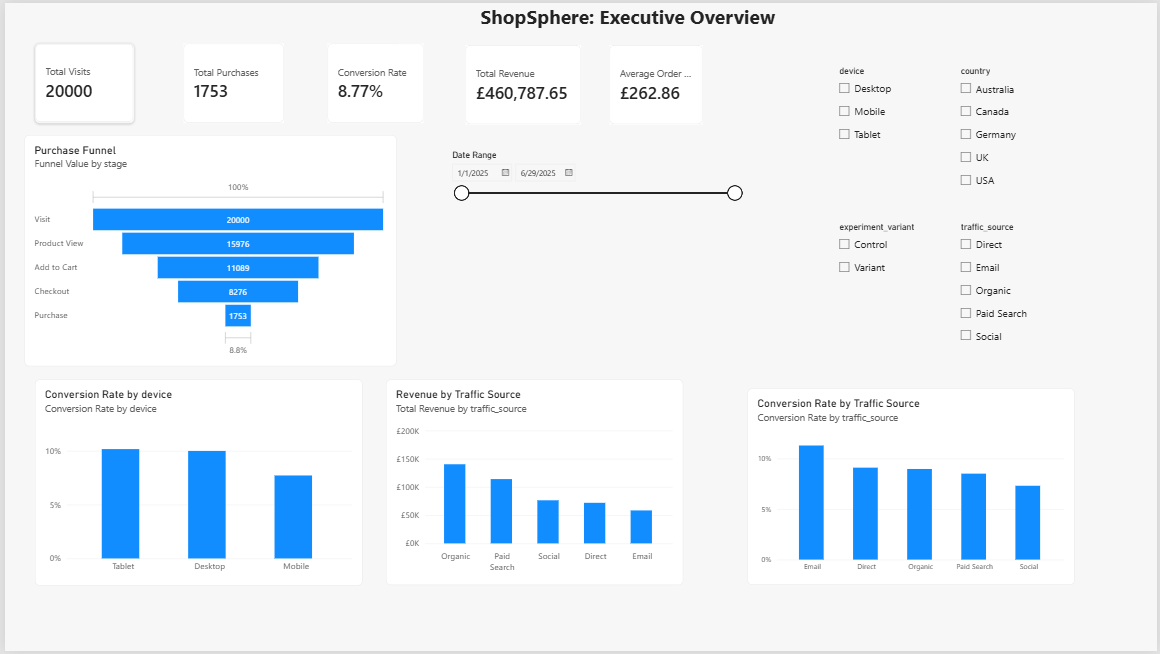

The dashboard page shown, as its layout file describes it:
{"tool":"powerbi","page":{"name":"Page 1","canvas":[1920,1080],"ordinal":0},"visuals":[{"type":"cardVisual","fields":{"Data":["public session_funnel.Total Visits"]},"box":[50,67.5,165,132.5],"z":0},{"type":"cardVisual","fields":{"Data":["public session_funnel.Total Purchases","public session_funnel.Total Purchases"]},"box":[297.5,67.5,167.5,132.5],"z":1},{"type":"cardVisual","fields":{"Data":["public session_funnel.Conversion Rate"]},"box":[537.5,67.5,160,132.5],"z":2},{"type":"cardVisual","fields":{"Data":["public session_funnel.Total Revenue"]},"box":[767.5,70,192.5,132.5],"z":3},{"type":"cardVisual","fields":{"Data":["public session_funnel.Average Order Value"]},"box":[1007.5,70,155,132.5],"z":4},{"type":"funnel","title":"Purchase Funnel","fields":{"Category":["Funnel Stages.stage"],"Y":["Funnel Stages.Funnel Value"]},"box":[32.5,220,620,385],"z":5},{"type":"clusteredColumnChart","title":"Conversion Rate by device","fields":{"Category":["public session_funnel.device"],"Y":["public session_funnel.Conversion Rate"]},"box":[50,627.5,546.2,343.6],"z":6},{"type":"clusteredColumnChart","title":"Conversion Rate by Traffic Source","fields":{"Category":["public session_funnel.traffic_source"],"Y":["public session_funnel.Conversion Rate"]},"box":[1237.5,642.5,545,327.5],"z":7},{"type":"clusteredColumnChart","title":"Revenue by Traffic Source","fields":{"Category":["public session_funnel.traffic_source"],"Y":["public session_funnel.Total Revenue"]},"box":[635,627.5,495,342.5],"z":8},{"type":"slicer","fields":{"Values":["public session_funnel.device"]},"box":[1382.5,105,172.5,137.5],"z":9},{"type":"slicer","fields":{"Values":["public session_funnel.country"]},"box":[1585,105,252.5,207.5],"z":10},{"type":"slicer","fields":{"Values":["public session_funnel.traffic_source"]},"box":[1585,365,197.5,217.5],"z":11},{"type":"slicer","fields":{"Values":["public session_funnel.experiment_variant"]},"box":[1382.5,365,169.2,125.6],"z":12},{"type":"textbox","box":[792.5,0,540,67.5],"z":13},{"type":"slicer","fields":{"Values":["public session_funnel.session_date"]},"box":[737.5,245,495,150],"z":14}]}

Visuals, with their boxes in screenshot pixels (x1, y1, x2, y2), scaled from the page's 1920x1080 canvas onto the 1160x654 screenshot:
cardVisual - public session_funnel.Total Visits: l=30, t=41, r=130, b=121
cardVisual - public session_funnel.Total Purchases x public session_funnel.Total Purchases: l=180, t=41, r=281, b=121
cardVisual - public session_funnel.Conversion Rate: l=325, t=41, r=421, b=121
cardVisual - public session_funnel.Total Revenue: l=464, t=42, r=580, b=123
cardVisual - public session_funnel.Average Order Value: l=609, t=42, r=702, b=123
"Purchase Funnel" funnel: l=20, t=133, r=394, b=366
"Conversion Rate by device" clusteredColumnChart: l=30, t=380, r=360, b=588
"Conversion Rate by Traffic Source" clusteredColumnChart: l=748, t=389, r=1077, b=587
"Revenue by Traffic Source" clusteredColumnChart: l=384, t=380, r=683, b=587
slicer - public session_funnel.device: l=835, t=64, r=939, b=147
slicer - public session_funnel.country: l=958, t=64, r=1110, b=189
slicer - public session_funnel.traffic_source: l=958, t=221, r=1077, b=353
slicer - public session_funnel.experiment_variant: l=835, t=221, r=937, b=297
textbox: l=479, t=0, r=805, b=41
slicer - public session_funnel.session_date: l=446, t=148, r=745, b=239
